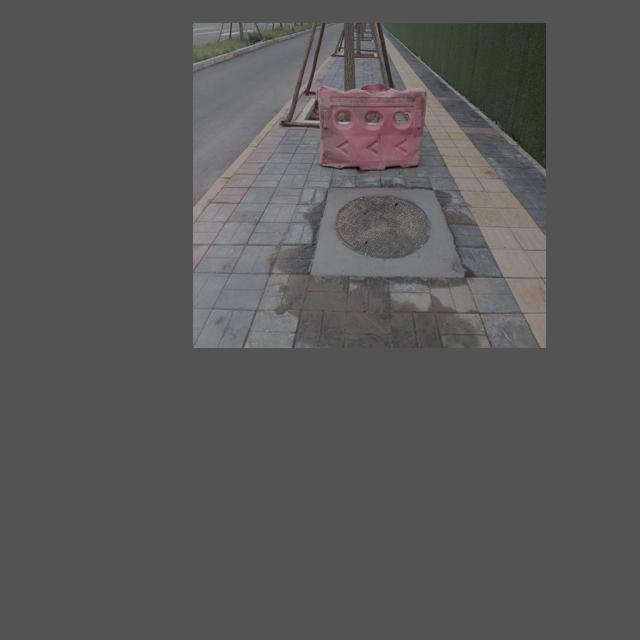good: (307, 179, 456, 292)
